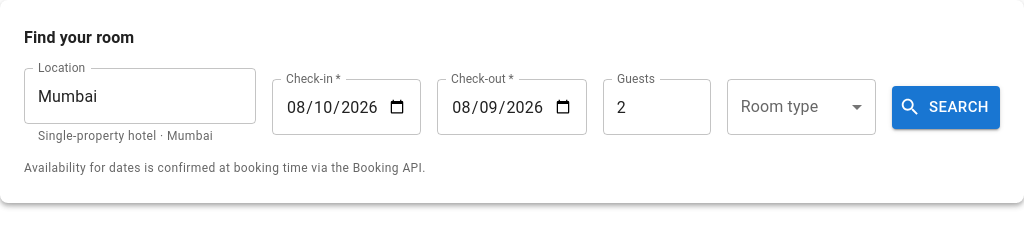
Test: SearchBar › shows validation when checkout invalid
Click the button "Search". click: (946, 107)
box: top-left (892, 86), bottom-right (1000, 129)
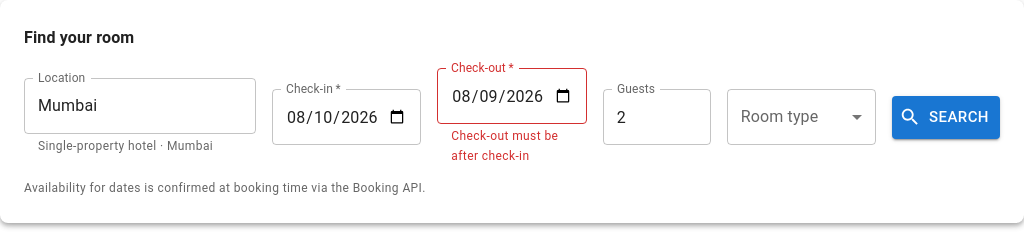
Result: the text "Check-out must be after check-in" is shown at top-left (451, 127), bottom-right (573, 167)
